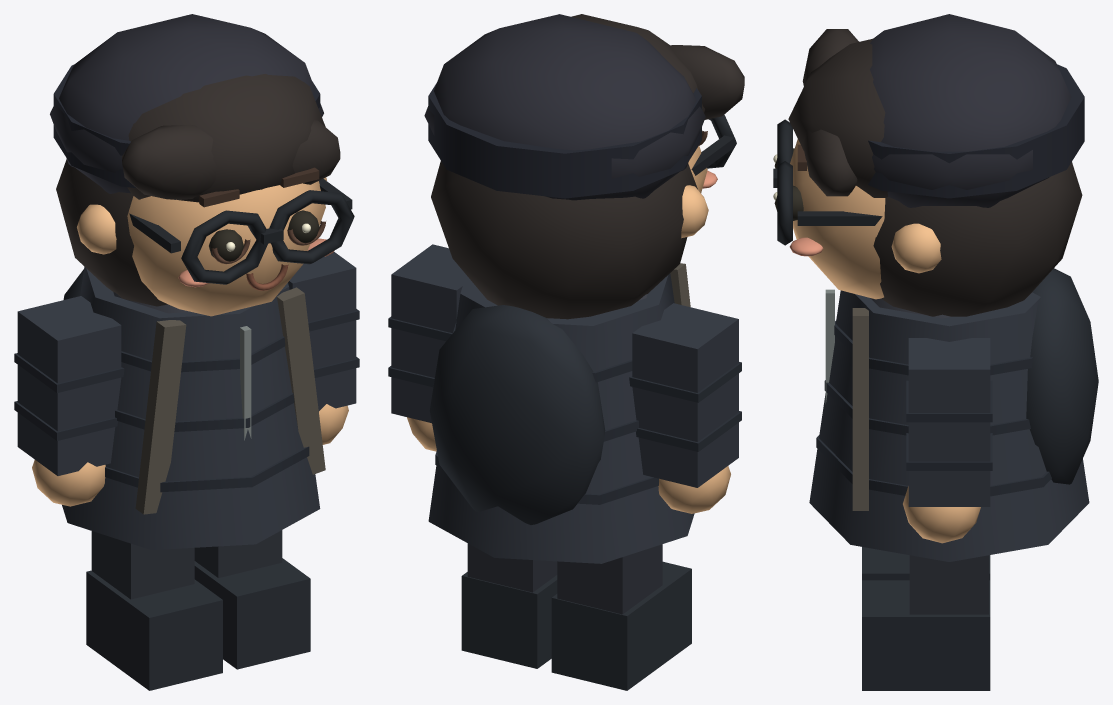
Rendered from companion.glb.
The picture shows the model from 3 angles, left to right: view 1: azimuth 30°, elevation 25°; view 2: azimuth 150°, elevation 25°; view 3: azimuth 270°, elevation 25°; orthographic projection. The views are drawn at different scales.
Visible parts, largest first — view 1: winter-torso-0, head, winter-sleeves-0 (×2), winter-headwear-0, companion-hair-crown, left-foot, right-foot, winter-trousers-0 (×2), companion-hair-fringe-0, winter-torso-6, winter-torso-7, left-hand (+10 smaller); view 2: winter-torso-5, head, winter-headwear-0, winter-sleeves-0 (×2), winter-torso-0, left-foot, winter-headwear-1, winter-trousers-0 (×2), right-foot, companion-hair-fringe-0, left-hand, winter-sleeves-1 (×2) (+5 smaller); view 3: winter-torso-0, head, winter-headwear-0, winter-sleeves-0, right-foot, winter-torso-5, companion-hair-crown, winter-headwear-1, winter-trousers-0, winter-torso-7, companion-hair-fringe-2, right-hand (+8 smaller).
Boxes of the visible parts, bbox=[...] form: winter-torso-0: bbox=[62, 267, 320, 550]; head: bbox=[56, 159, 354, 316]; winter-sleeves-0 (×2): bbox=[17, 252, 356, 475]; winter-headwear-0: bbox=[50, 14, 323, 193]; companion-hair-crown: bbox=[127, 74, 325, 202]; left-foot: bbox=[86, 570, 222, 690]; right-foot: bbox=[194, 558, 310, 669]; winter-trousers-0 (×2): bbox=[91, 530, 282, 599]; companion-hair-fringe-0: bbox=[122, 124, 216, 199]; winter-torso-6: bbox=[135, 320, 186, 514]; winter-torso-7: bbox=[277, 287, 325, 474]; left-hand: bbox=[32, 460, 105, 506]; winter-torso-5: bbox=[429, 305, 605, 524]; head: bbox=[431, 114, 736, 319]; winter-headwear-0: bbox=[424, 14, 705, 200]; winter-sleeves-0 (×2): bbox=[391, 244, 738, 487]; winter-torso-0: bbox=[428, 273, 694, 563]; left-foot: bbox=[551, 561, 691, 690]; winter-headwear-1: bbox=[428, 83, 701, 198]; winter-trousers-0 (×2): bbox=[467, 543, 662, 614]; right-foot: bbox=[461, 572, 557, 668]; companion-hair-fringe-0: bbox=[669, 45, 744, 119]; left-hand: bbox=[658, 466, 730, 513]; winter-sleeves-1 (×2): bbox=[388, 316, 741, 402]; winter-torso-0: bbox=[809, 290, 1089, 561]; head: bbox=[773, 119, 1082, 316]; winter-headwear-0: bbox=[870, 14, 1071, 207]; winter-sleeves-0: bbox=[908, 338, 990, 506]; right-foot: bbox=[862, 580, 990, 690]; winter-torso-5: bbox=[1026, 268, 1098, 484]; companion-hair-crown: bbox=[788, 38, 887, 197]; winter-headwear-1: bbox=[868, 64, 1084, 198]; winter-trousers-0: bbox=[909, 555, 988, 614]; winter-torso-7: bbox=[852, 308, 868, 510]; companion-hair-fringe-2: bbox=[802, 129, 857, 196]; right-hand: bbox=[903, 486, 980, 543].
Bounding box in the file's own units: 1.54 × 2.92 × 1.39.
